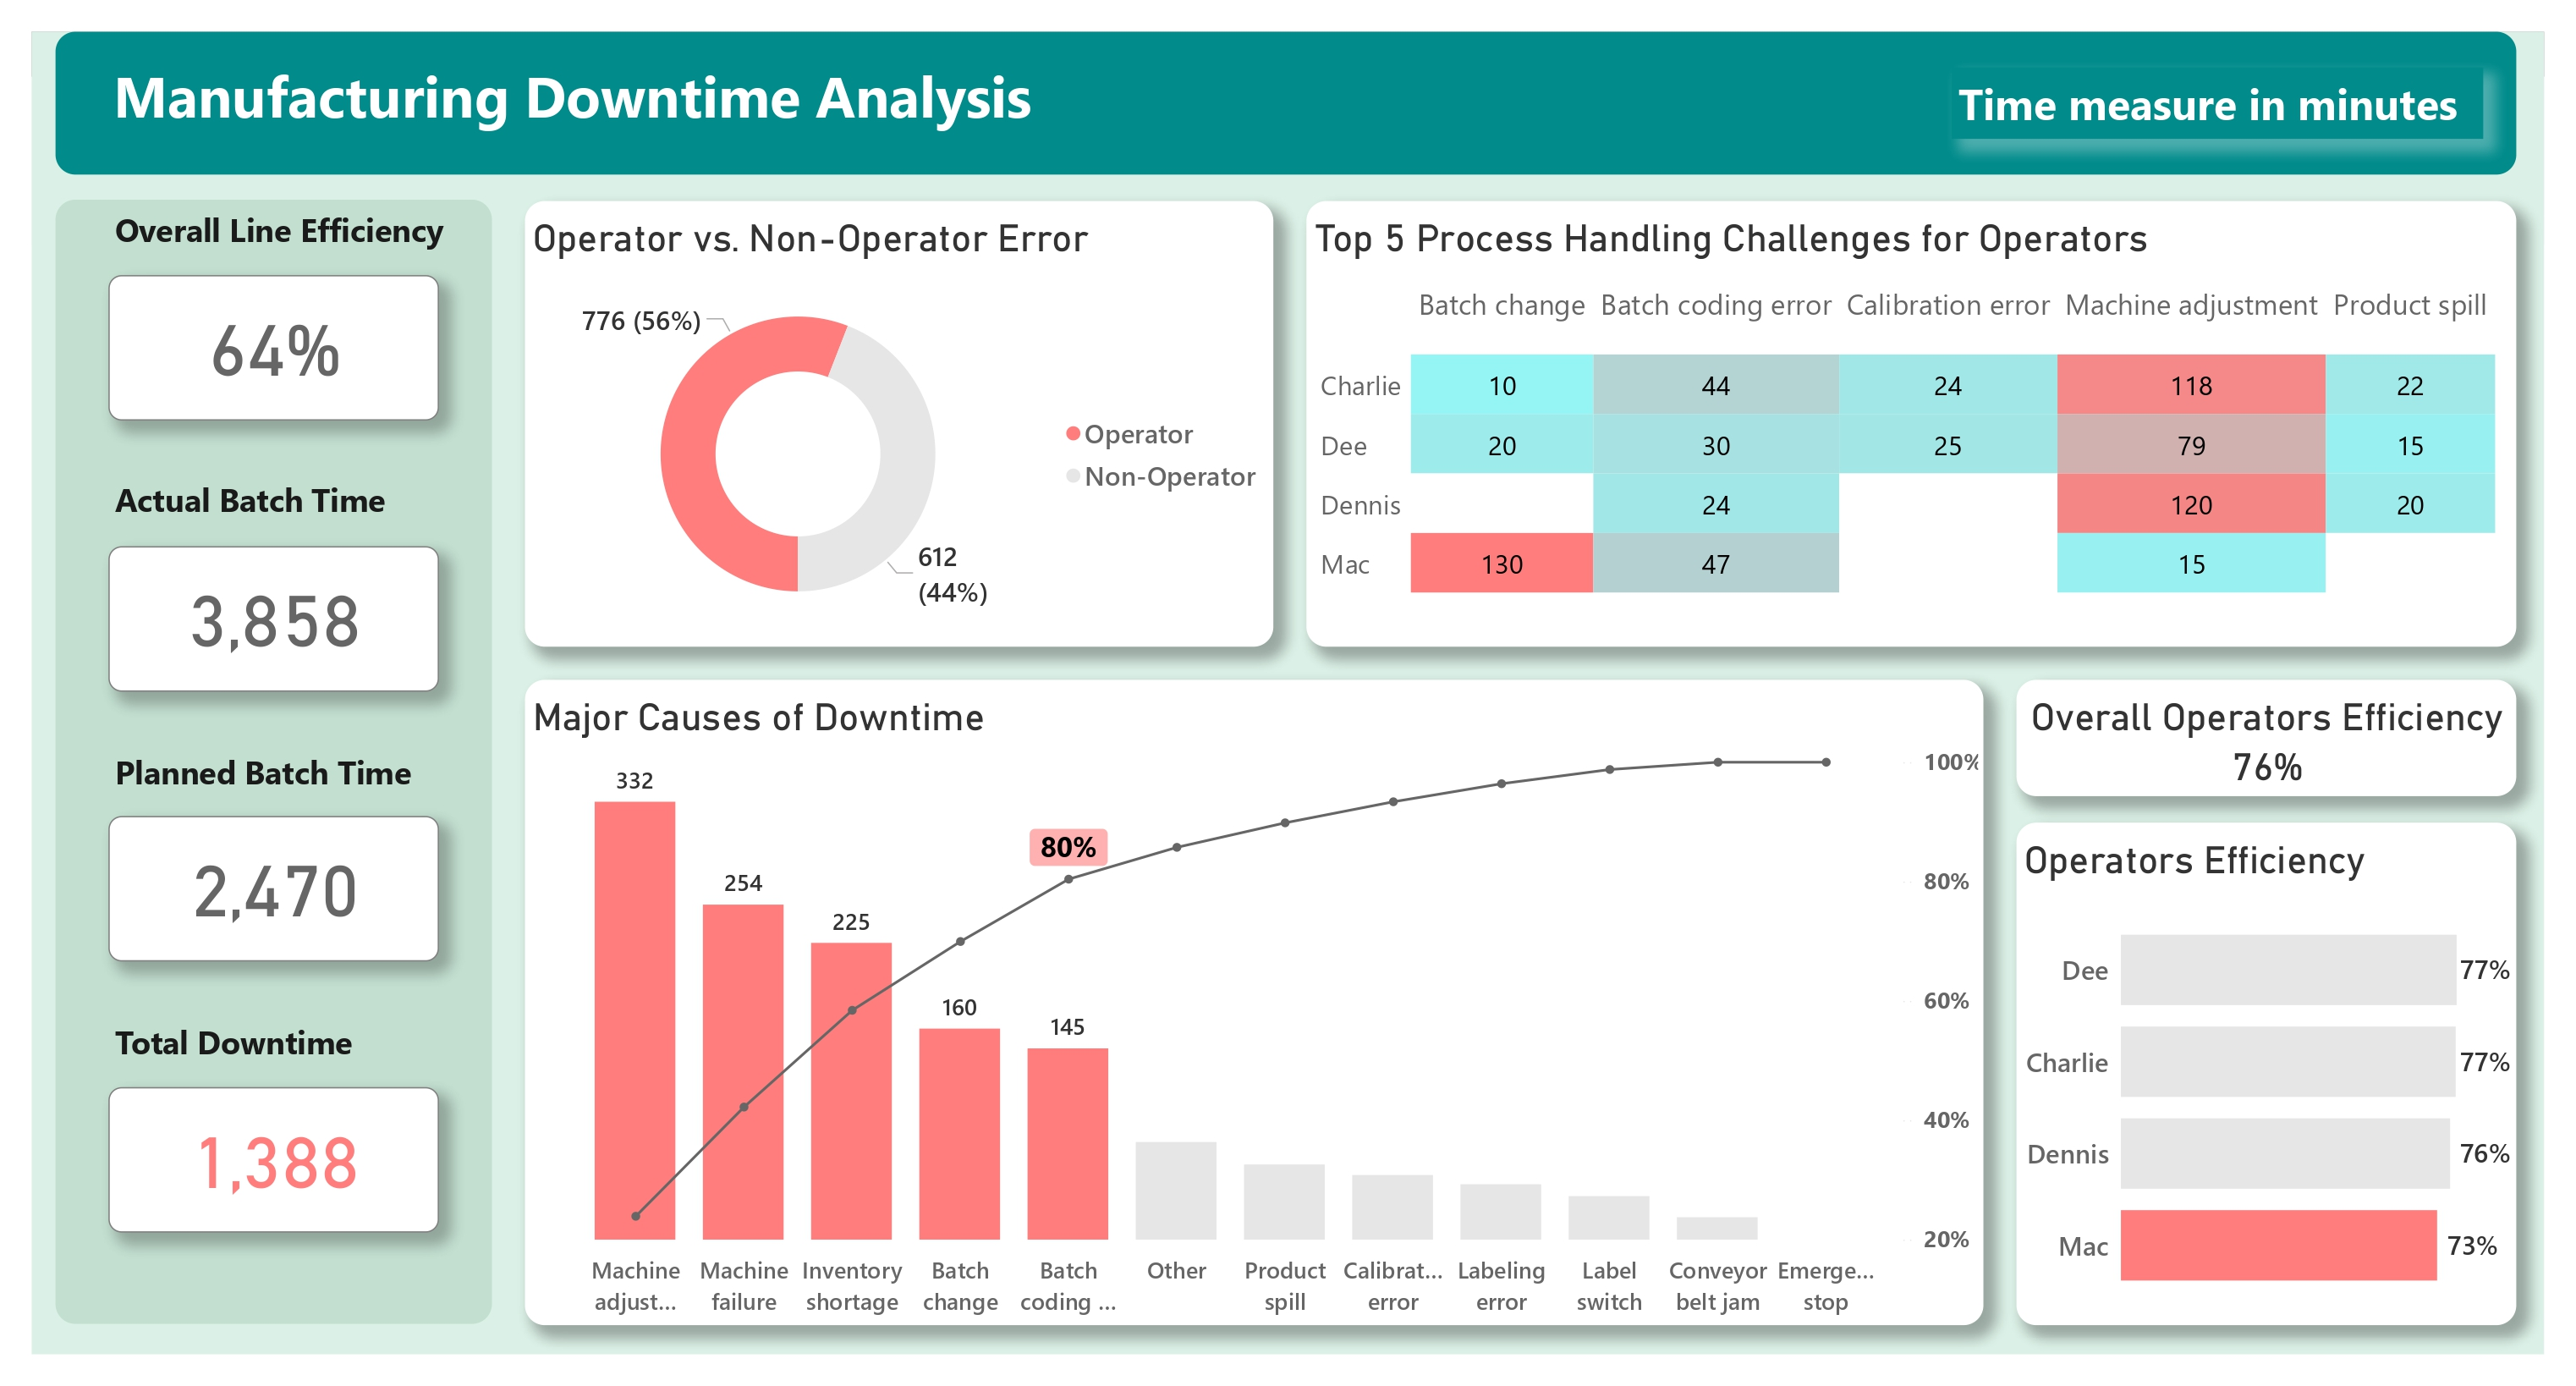

The page's visual inventory and layout, read from the dashboard file:
{"tool":"powerbi","page":{"name":"manufacturing downtime report","canvas":[1900,1560],"ordinal":0},"visuals":[{"type":"shape","box":[18.4,15.3,1862.7,110.3],"z":0},{"type":"lineClusteredColumnComboChart","title":"Major Causes of Downtime","fields":{"Category":["Line downtime.Description"],"Y":["Measures_.Total DownTime"],"Y2":["Measures_.DownTime Pareto"]},"box":[373.1,644.5,1100.9,521.1],"z":1000},{"type":"donutChart","title":"Operator vs. Non-Operator Error","fields":{"Y":["Measures_.Total Down Time"],"Category":["Downtime factors.Operator Error"]},"box":[373.8,205.3,563.7,337],"z":2000},{"type":"clusteredBarChart","title":"Operators Efficiency Dist.","fields":{"Category":["Line productivity.Operator"],"Y":["Measures_.Operator Efficiency"]},"box":[1498.6,675.3,382.4,490.3],"z":3000},{"type":"textbox","box":[18.6,31,766.6,77.6],"z":4000},{"type":"textbox","box":[1574.8,39.8,284.9,64.3],"z":5000},{"type":"shape","box":[18.6,149,329,1018],"z":6000},{"type":"card","fields":{"Values":["Measures_.Overall Line Efficiency"]},"box":[56.2,200.4,249.8,111],"z":7000},{"type":"textbox","box":[56.2,151.4,273.7,47.7],"z":8000},{"type":"card","fields":{"Values":["Measures_.Actual Batch Time"]},"box":[55.3,607.2,251.5,111.4],"z":9000},{"type":"card","fields":{"Values":["Measures_.Planned Batch Time"]},"box":[55.3,810.6,251.5,111.4],"z":10000},{"type":"card","fields":{"Values":["Measures_.Total Downtime"]},"box":[55.3,1014.1,251.5,108.2],"z":11000},{"type":"textbox","box":[56.2,555.7,260,47.7],"z":12000},{"type":"textbox","box":[56.2,759.4,280,44.6],"z":13000},{"type":"textbox","box":[56.2,961.6,261.7,47],"z":14000},{"type":"pivotTable","title":"Top 5 Process Handling Challenges for Operators","fields":{"Rows":["Line productivity.Operator"],"Values":["Measures_.Operators Down Time"],"Columns":["Line downtime.Description"]},"box":[965.1,205.3,916.1,337],"z":15000},{"type":"textbox","box":[373.8,150.1,563.7,104.2],"z":16000},{"type":"textbox","box":[965.1,150.1,916.1,104.2],"z":17000},{"type":"textbox","box":[373.1,570.5,1100.9,117.2],"z":18000},{"type":"textbox","box":[1498.6,570.5,382.4,148],"z":19000},{"type":"textbox","box":[56.2,350,273.5,44.1],"z":20000},{"type":"card","title":"Overall Operators Efficiency","fields":{"Values":["Measures_.Operator Efficiency"]},"box":[55.3,403.8,251.5,111.4],"z":21000},{"type":"textbox","box":[18.5,1196.4,1862.5,326.9],"z":22000}]}

Visuals, with their boxes on the page's 1900x1560 design canvas (x1, y1, x2, y2). These are canvas units, not pixel positions in the 2576x1386 screenshot, which may show the page scaled, cropped or inside an application window:
shape: box=[18, 15, 1881, 126]
"Major Causes of Downtime" lineClusteredColumnComboChart: box=[373, 644, 1474, 1166]
"Operator vs. Non-Operator Error" donutChart: box=[374, 205, 938, 542]
"Operators Efficiency Dist." clusteredBarChart: box=[1499, 675, 1881, 1166]
textbox: box=[19, 31, 785, 109]
textbox: box=[1575, 40, 1860, 104]
shape: box=[19, 149, 348, 1167]
card - Measures_.Overall Line Efficiency: box=[56, 200, 306, 311]
textbox: box=[56, 151, 330, 199]
card - Measures_.Actual Batch Time: box=[55, 607, 307, 719]
card - Measures_.Planned Batch Time: box=[55, 811, 307, 922]
card - Measures_.Total Downtime: box=[55, 1014, 307, 1122]
textbox: box=[56, 556, 316, 603]
textbox: box=[56, 759, 336, 804]
textbox: box=[56, 962, 318, 1009]
"Top 5 Process Handling Challenges for Operators" pivotTable: box=[965, 205, 1881, 542]
textbox: box=[374, 150, 938, 254]
textbox: box=[965, 150, 1881, 254]
textbox: box=[373, 570, 1474, 688]
textbox: box=[1499, 570, 1881, 718]
textbox: box=[56, 350, 330, 394]
"Overall Operators Efficiency" card: box=[55, 404, 307, 515]
textbox: box=[18, 1196, 1881, 1523]
